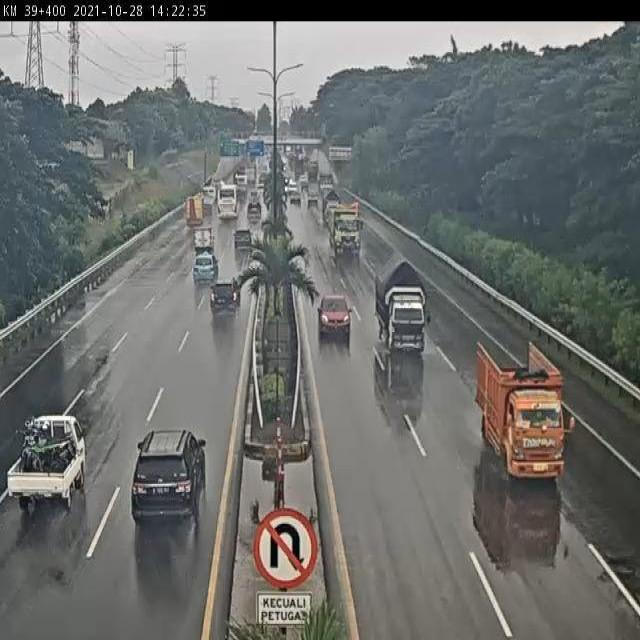car: (6, 412, 88, 513), (129, 431, 208, 525), (316, 292, 351, 343), (208, 279, 240, 316), (191, 249, 218, 283), (232, 227, 253, 250)
truck-l-: (327, 202, 364, 262)
truck-s-: (477, 344, 564, 483), (378, 254, 427, 354), (184, 195, 204, 224)
